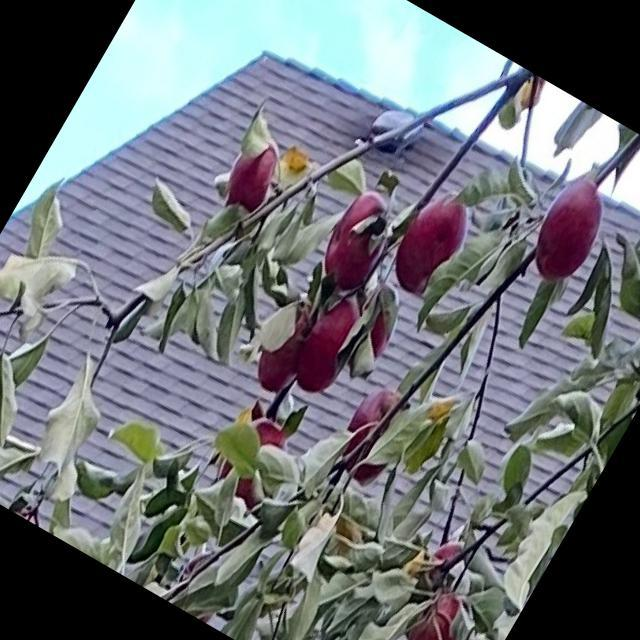100-_ripeness: (382, 186, 482, 300), (522, 172, 620, 286), (285, 286, 377, 399), (314, 186, 404, 292), (330, 380, 420, 486), (211, 412, 298, 510), (248, 302, 328, 399), (218, 132, 290, 216), (347, 286, 411, 364), (400, 587, 478, 639), (418, 535, 472, 600)
